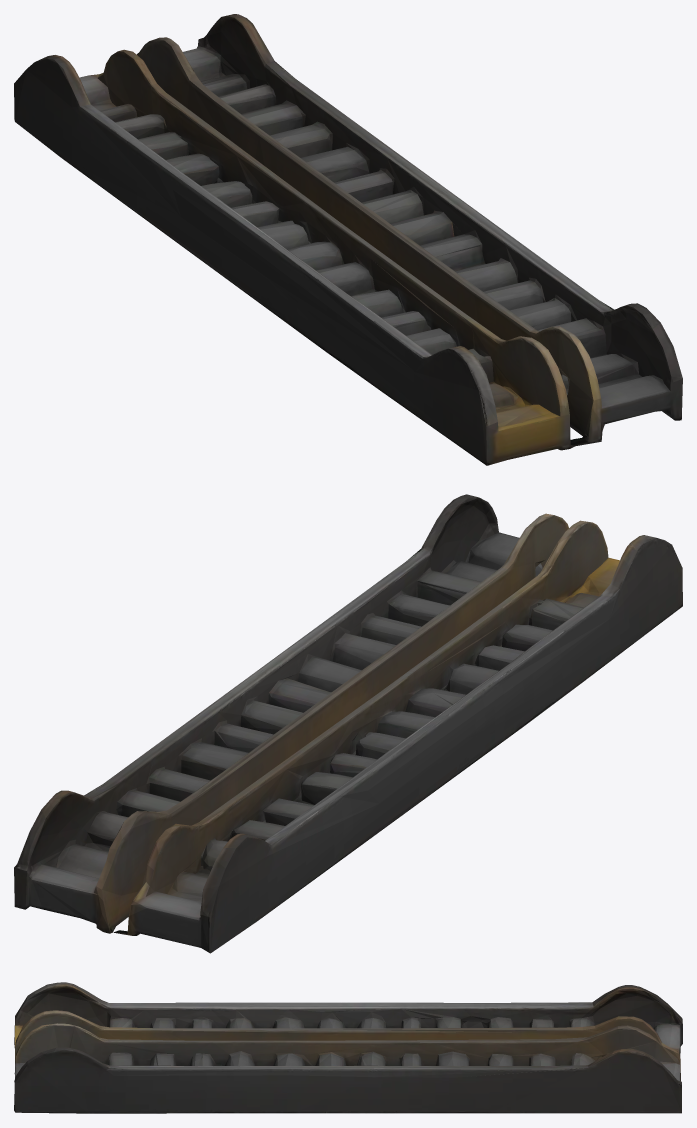
3 views of the same model, one above another, from view 1: azimuth 30°, elevation 25°; view 2: azimuth 150°, elevation 25°; view 3: azimuth 270°, elevation 25° (orthographic). The views are drawn at different scales.
Parts seen in each view (by area): view 1: geometry_0; view 2: geometry_0; view 3: geometry_0.
Part boxes in pixels (box(x1,y1,x2,y2)): geometry_0: box(14, 14, 682, 465); geometry_0: box(14, 494, 682, 953); geometry_0: box(14, 982, 682, 1113).
Bounding box in the file's own units: 0.2413 × 0.112 × 1.
1 material, 1 textured.
